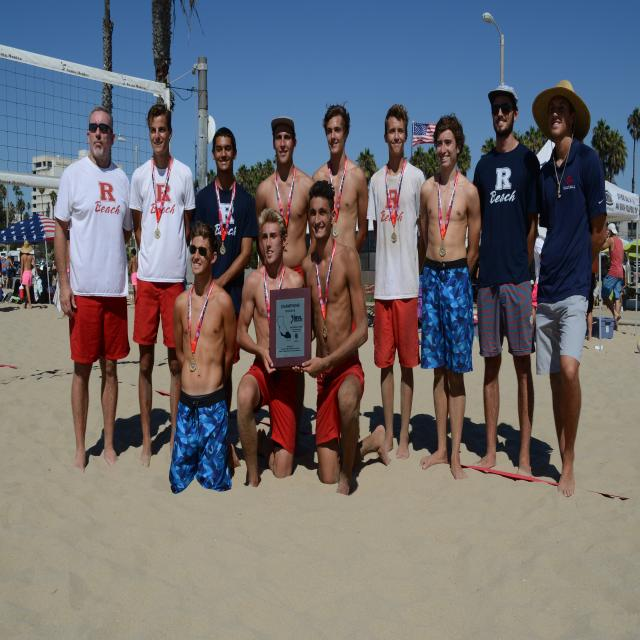body: (530, 73, 610, 499), (52, 104, 134, 475), (470, 79, 541, 484), (127, 103, 198, 470), (417, 114, 482, 483), (299, 177, 370, 503), (193, 124, 259, 472), (365, 102, 428, 460), (255, 114, 318, 459), (234, 205, 306, 496), (168, 219, 238, 495), (311, 100, 368, 251), (601, 223, 624, 331), (52, 229, 78, 319), (18, 238, 43, 310), (531, 227, 546, 339), (585, 274, 597, 342), (128, 248, 138, 305), (5, 252, 16, 289), (620, 267, 626, 312), (19, 241, 26, 274), (51, 262, 58, 284), (593, 279, 599, 304), (601, 274, 607, 288), (633, 269, 636, 286), (52, 260, 55, 266), (637, 272, 640, 278), (4, 258, 7, 262)
